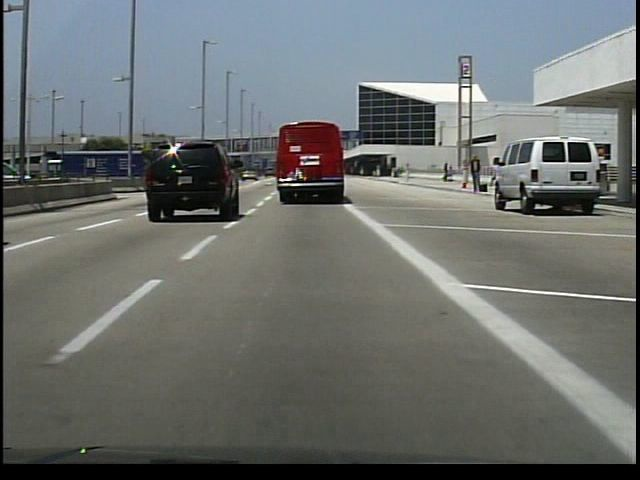person: (468, 154, 484, 199)
